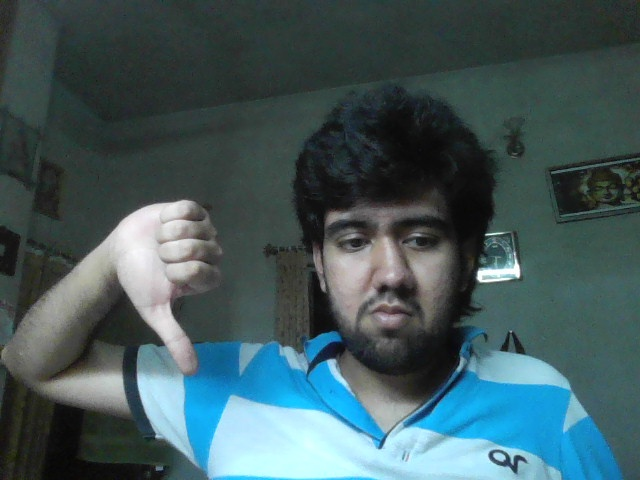NotOk: (117, 199, 223, 375)
